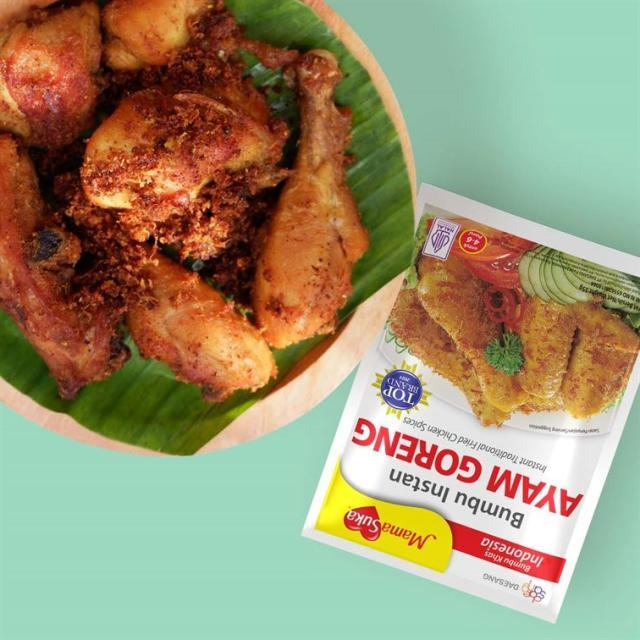ayam_goreng: (16, 18, 374, 422)
